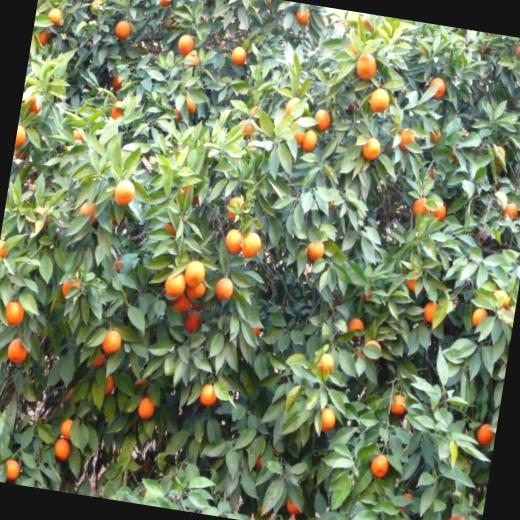Grape: (156, 258, 212, 335), (6, 334, 30, 366), (100, 326, 125, 356), (355, 51, 378, 82), (367, 87, 392, 114), (369, 450, 391, 480), (113, 180, 137, 207), (2, 299, 25, 327), (240, 232, 262, 261), (76, 200, 100, 226), (223, 195, 245, 223), (360, 136, 382, 164), (110, 68, 132, 94), (198, 382, 220, 408), (312, 107, 333, 134), (224, 228, 244, 256), (398, 128, 419, 154), (404, 268, 425, 294), (314, 351, 334, 378), (425, 76, 447, 100), (476, 422, 496, 448), (114, 18, 133, 44), (52, 438, 71, 464), (23, 91, 44, 114), (183, 183, 204, 206), (306, 239, 327, 262), (2, 458, 22, 482), (470, 306, 490, 330), (214, 277, 233, 302), (346, 318, 365, 343), (60, 278, 80, 301), (362, 339, 382, 362), (229, 46, 248, 70), (320, 408, 339, 432), (46, 6, 67, 27), (300, 130, 319, 153), (412, 194, 431, 217), (176, 32, 194, 56), (180, 94, 198, 118), (236, 118, 254, 142), (388, 392, 406, 416), (138, 397, 156, 420), (428, 204, 448, 224), (490, 289, 510, 309), (448, 146, 466, 167), (423, 301, 438, 326), (398, 492, 415, 514), (14, 124, 28, 150), (34, 28, 50, 50), (59, 417, 73, 442), (184, 54, 201, 74), (501, 202, 518, 222), (109, 101, 125, 122), (294, 5, 310, 26), (285, 500, 304, 517), (285, 94, 299, 117), (360, 16, 376, 35), (103, 374, 114, 398), (0, 239, 11, 262), (72, 127, 87, 143), (164, 13, 175, 33), (110, 211, 124, 226), (110, 259, 124, 274), (163, 223, 176, 238), (93, 352, 105, 368), (429, 128, 441, 144), (443, 513, 470, 520), (254, 456, 264, 474), (352, 348, 364, 362), (15, 150, 28, 162), (416, 44, 428, 57), (429, 165, 437, 184), (347, 42, 359, 54), (514, 41, 520, 65), (154, 0, 173, 7), (504, 306, 516, 315), (205, 0, 225, 3)
